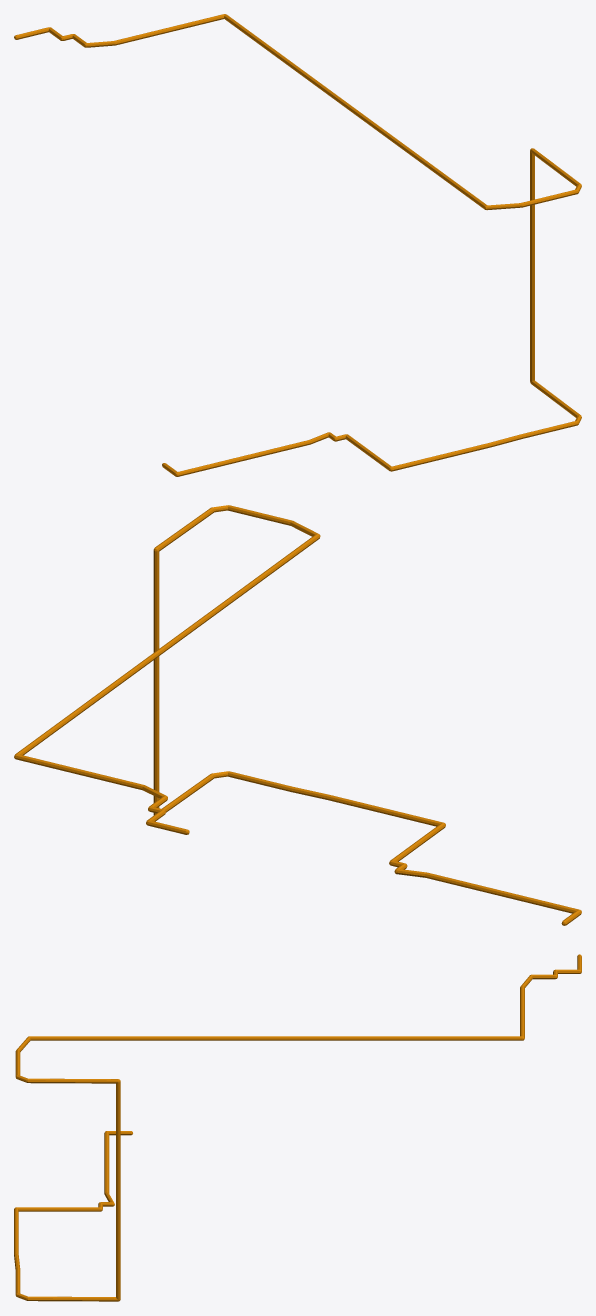
3 renders of one model, top to bottom at view 1: azimuth 30°, elevation 25°; view 2: azimuth 150°, elevation 25°; view 3: azimuth 270°, elevation 25°, orthographic. The views are drawn at different scales.
Size of the model in its own units: 1655 by 1020 by 2362.
